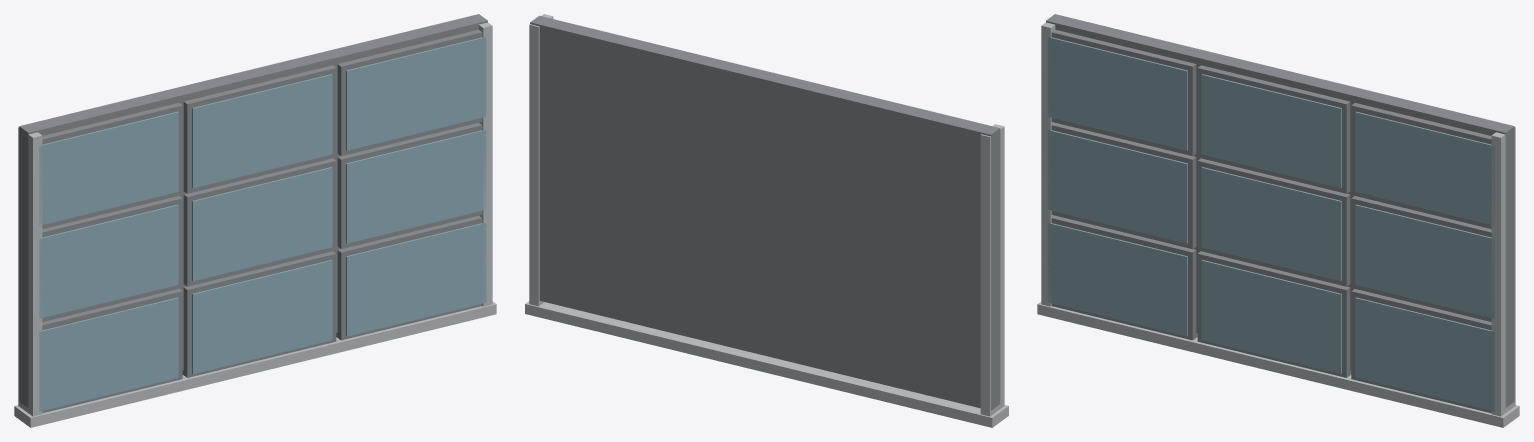
File: P_big_screen_wall.fbx
3 views of the same model, side by side, from view 1: azimuth 30°, elevation 25°; view 2: azimuth 150°, elevation 25°; view 3: azimuth 330°, elevation 25° (orthographic).
Parts seen in each view (by area): view 1: P_big_screen_wall; view 2: P_big_screen_wall; view 3: P_big_screen_wall.
Part boxes in pixels (box(x1,y1,x2,y2)): P_big_screen_wall: box(14, 14, 496, 427); P_big_screen_wall: box(525, 14, 1008, 427); P_big_screen_wall: box(1037, 14, 1519, 427).
Bounding box in the file's own units: 2.94 × 1.75 × 0.18.
